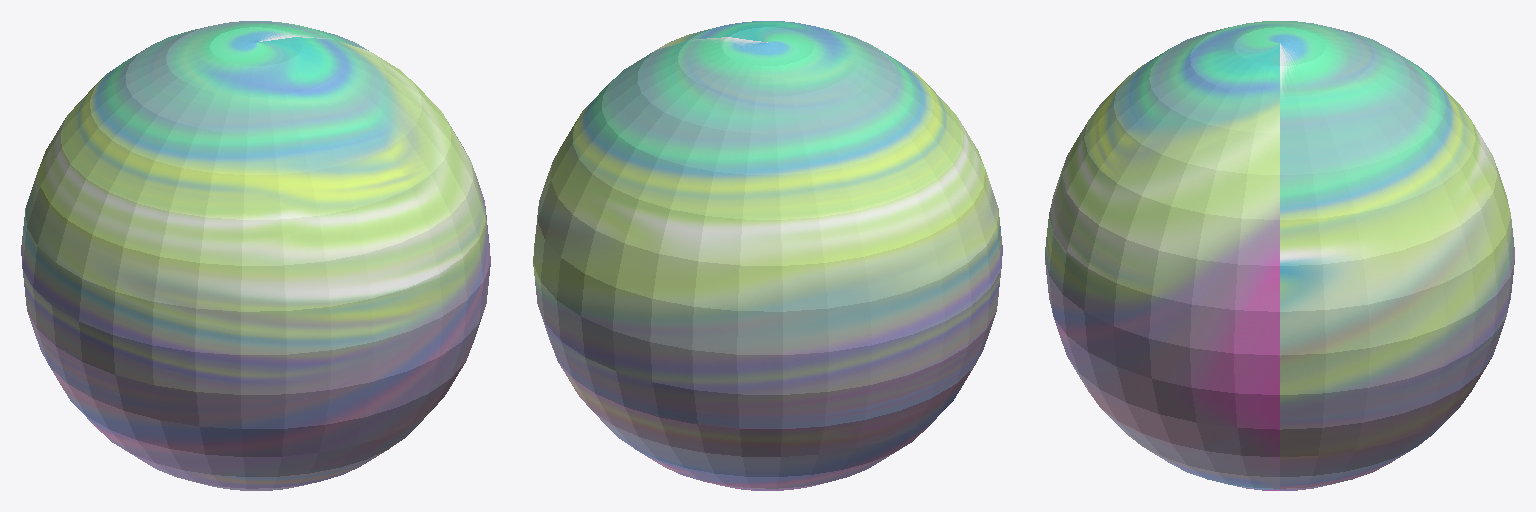
3 renders of one model, left to right at view 1: azimuth 30°, elevation 25°; view 2: azimuth 150°, elevation 25°; view 3: azimuth 270°, elevation 25°, orthographic.
Visible parts, largest first — view 1: 球; view 2: 球; view 3: 球.
Part boxes in pixels (bbox=[...]): 球: bbox=[21, 21, 490, 490]; 球: bbox=[533, 21, 1002, 490]; 球: bbox=[1045, 21, 1514, 490].
Size of the model in its own units: 2 by 2 by 2.
Materials: 1 (1 with a texture image).